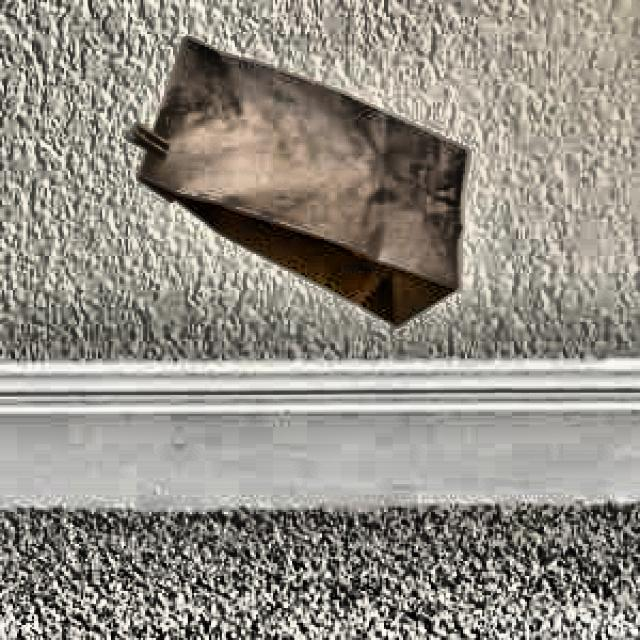Paper-bag: (116, 30, 508, 362)
